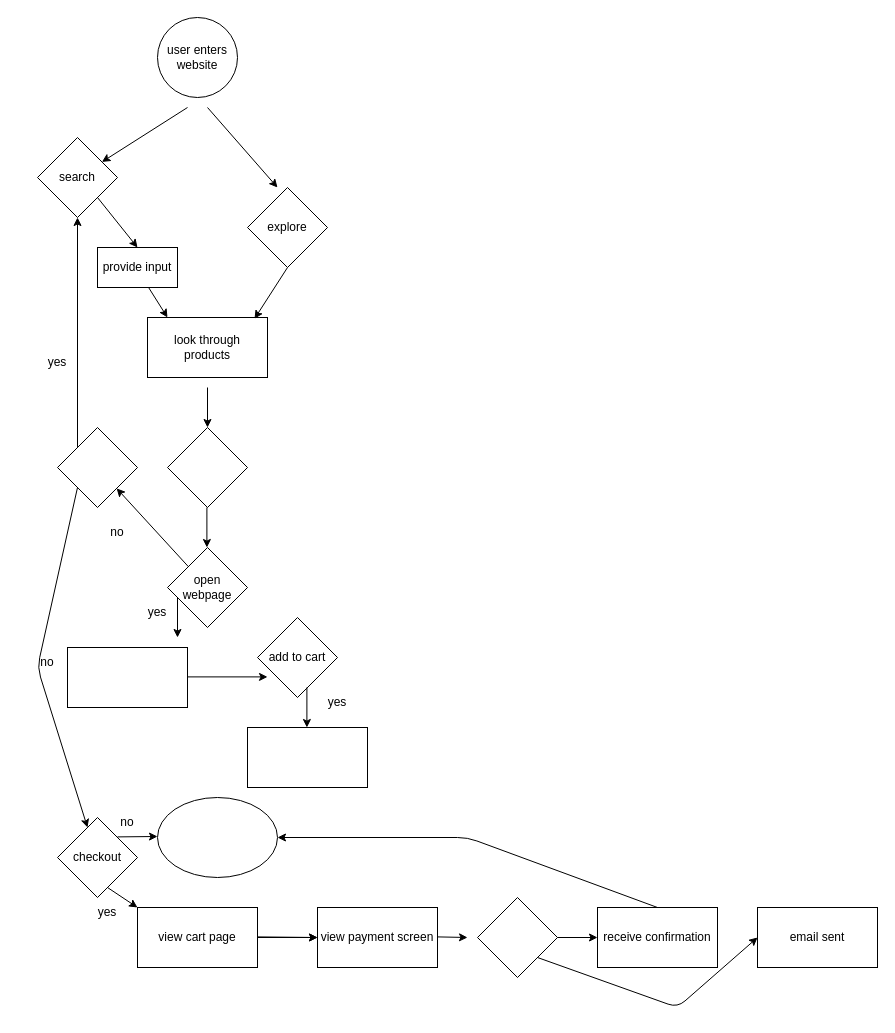
Image size: 895x1033. Some labels were removed from this diagram. Each missing label, with the box of its shape:
added to cart confirmation: (246, 726, 368, 788)
continue shopping: (56, 426, 138, 508)
exit website: (156, 796, 278, 878)
found a product: (166, 426, 248, 508)
input payment info: (476, 896, 558, 978)
product webpage: (66, 646, 188, 708)
